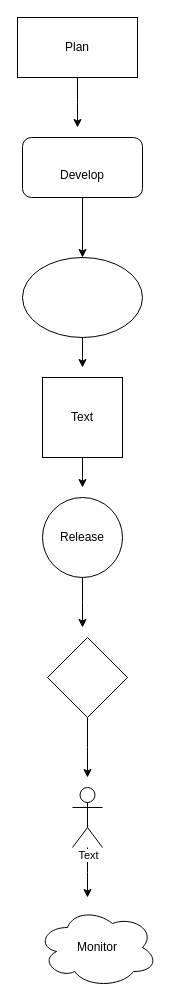
The diagram is 175 pixels wide and 1005 high, and some of its shapes have lost their labels. The box of each missing label's shape, as (x1, y1, x2, y2) in pixels:
Actor: (72, 786, 102, 848)
Bulid: (22, 256, 142, 338)
Deplay: (46, 636, 128, 718)
